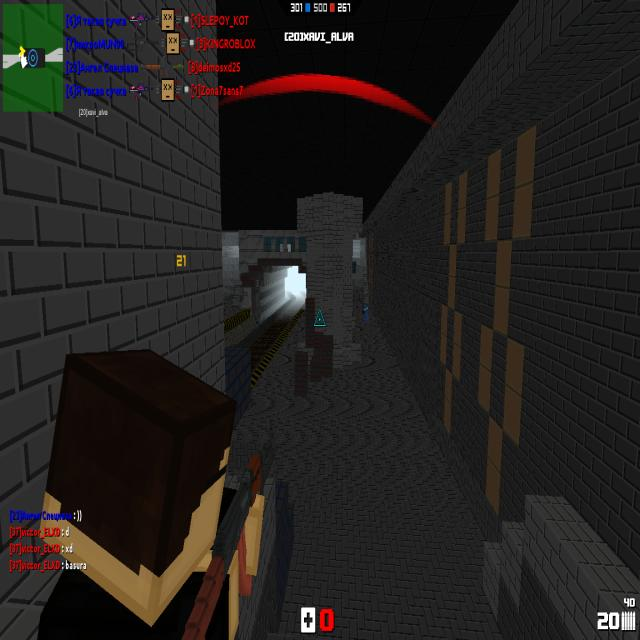enemy: (362, 303, 369, 325)
